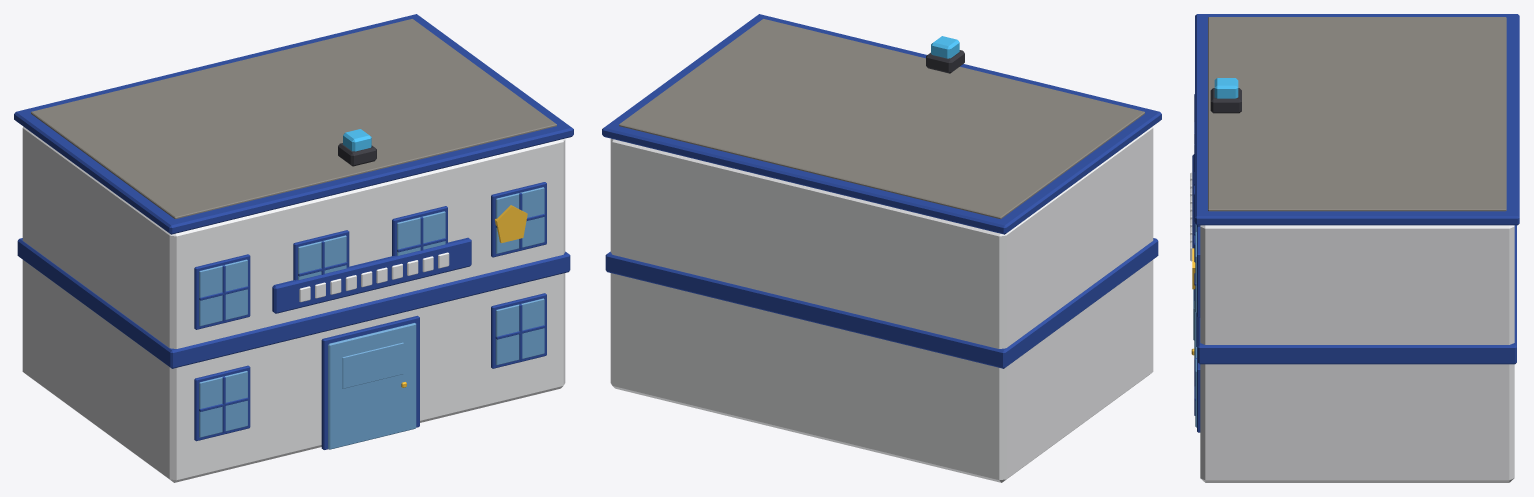
Rendered from PoliceStation.fbx.
3 views of the same model, side by side, from view 1: azimuth 30°, elevation 25°; view 2: azimuth 150°, elevation 25°; view 3: azimuth 270°, elevation 25° (orthographic). The views are drawn at different scales.
Visible parts, largest first — view 1: PoliceStation; view 2: PoliceStation; view 3: PoliceStation.
Part boxes in pixels (x1,y1,x2,y2): PoliceStation: [14, 14, 573, 482]; PoliceStation: [602, 14, 1161, 482]; PoliceStation: [1190, 14, 1519, 482].
Bounding box in the file's own units: 18.4 × 12.8 × 12.58.
Materials: 1 (1 with a texture image).
